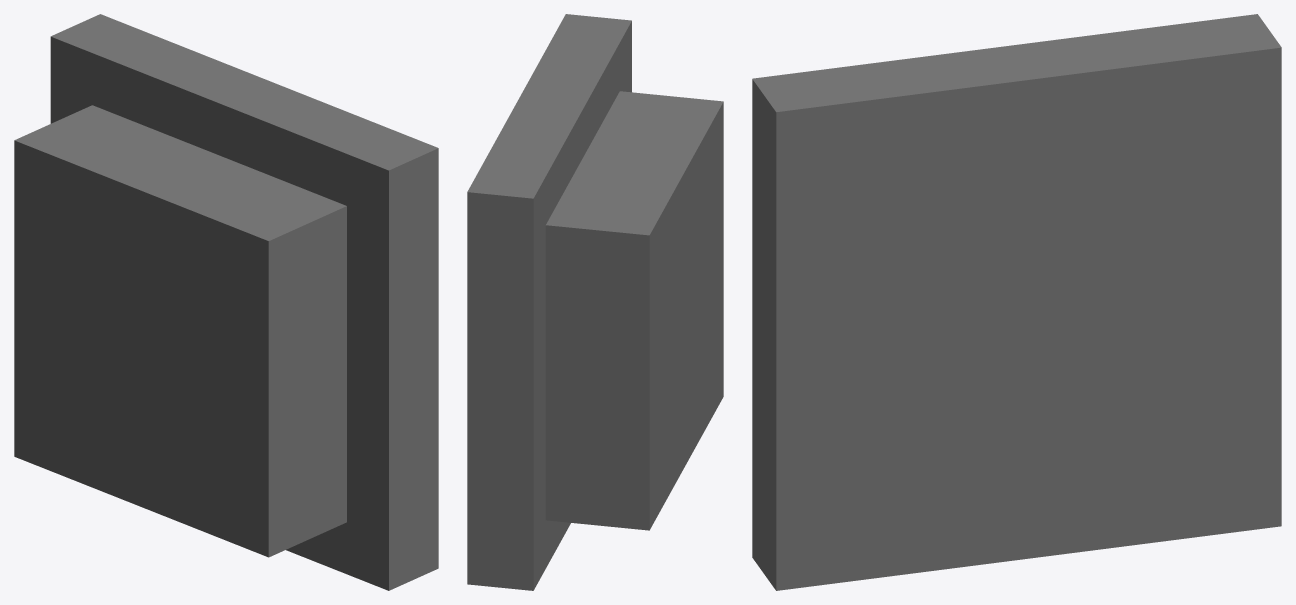
The model's file is Building Vent End.fbx.
The picture shows the model from 3 angles, left to right: view 1: azimuth 30°, elevation 25°; view 2: azimuth 150°, elevation 25°; view 3: azimuth 270°, elevation 25°; orthographic projection. The views are drawn at different scales.
Visible parts, largest first — view 1: Building Vent End; view 2: Building Vent End; view 3: Building Vent End.
Boxes of the visible parts, x1,y1,x2,y2 form: Building Vent End: [14, 14, 438, 590]; Building Vent End: [467, 14, 723, 590]; Building Vent End: [752, 14, 1281, 590].
Bounding box in the file's own units: 91.81 × 144 × 143.
